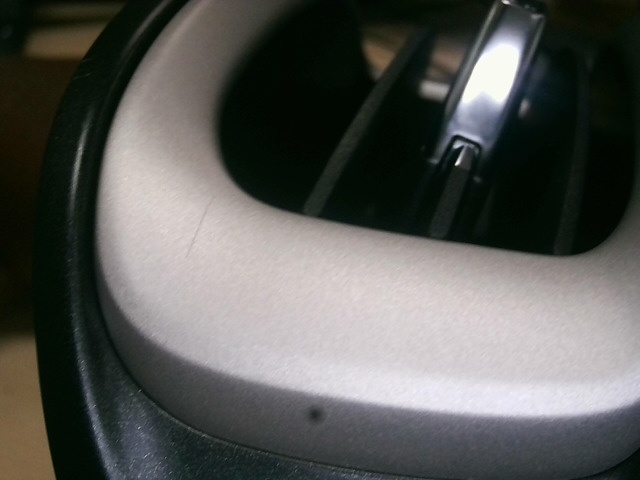NG: (181, 199, 224, 257), (68, 73, 100, 107)
